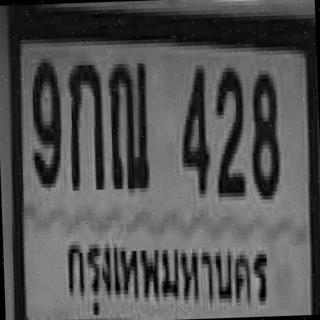A01: (66, 56, 104, 186)
A19: (106, 55, 148, 189)
N02: (212, 64, 245, 193)
N04: (177, 61, 208, 190)
N08: (247, 66, 278, 196)
N09: (29, 54, 62, 184)
P04: (56, 215, 271, 320)
